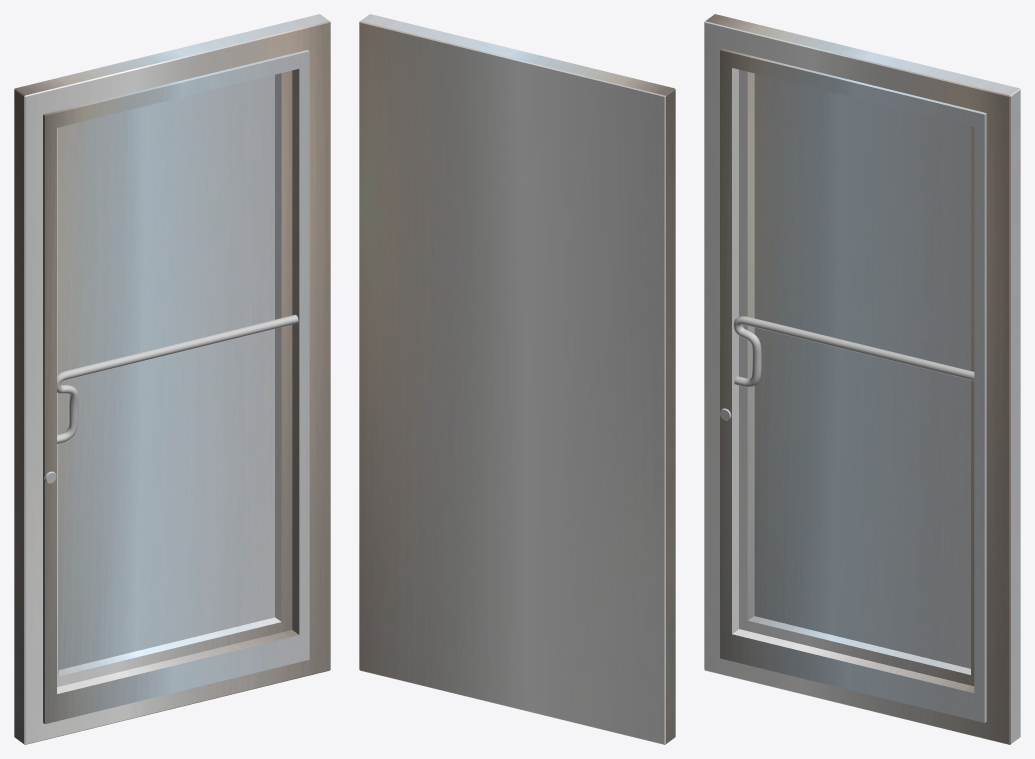
File: Dörr.fbx
3 views of the same model, side by side, from view 1: azimuth 30°, elevation 25°; view 2: azimuth 150°, elevation 25°; view 3: azimuth 330°, elevation 25° (orthographic).
Parts seen in each view (by area): view 1: Dörr; view 2: Dörr; view 3: Dörr.
Boxes of the visible parts, x1,y1,x2,y2 form: Dörr: (14,14,330,744); Dörr: (359,14,675,744); Dörr: (704,14,1020,744).
Size of the model in its own units: 2.98 by 6.03 by 0.2311.
Materials: 1 (1 with a texture image).
